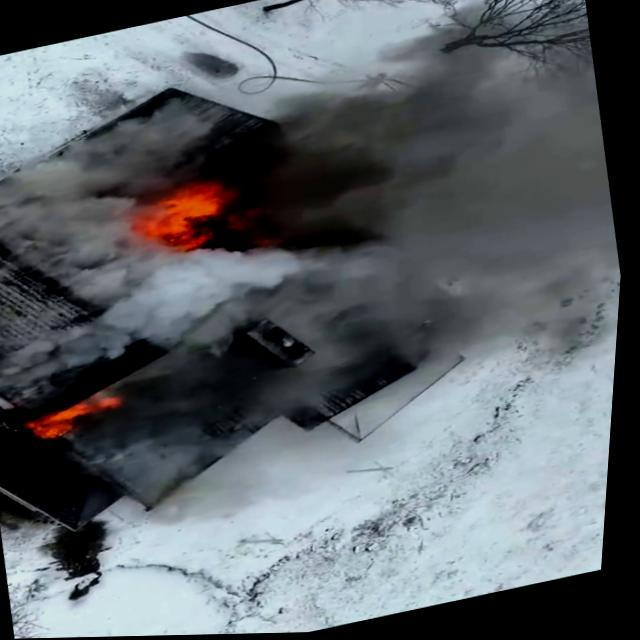fire: (132, 172, 248, 249)
smoke: (434, 65, 628, 274)
